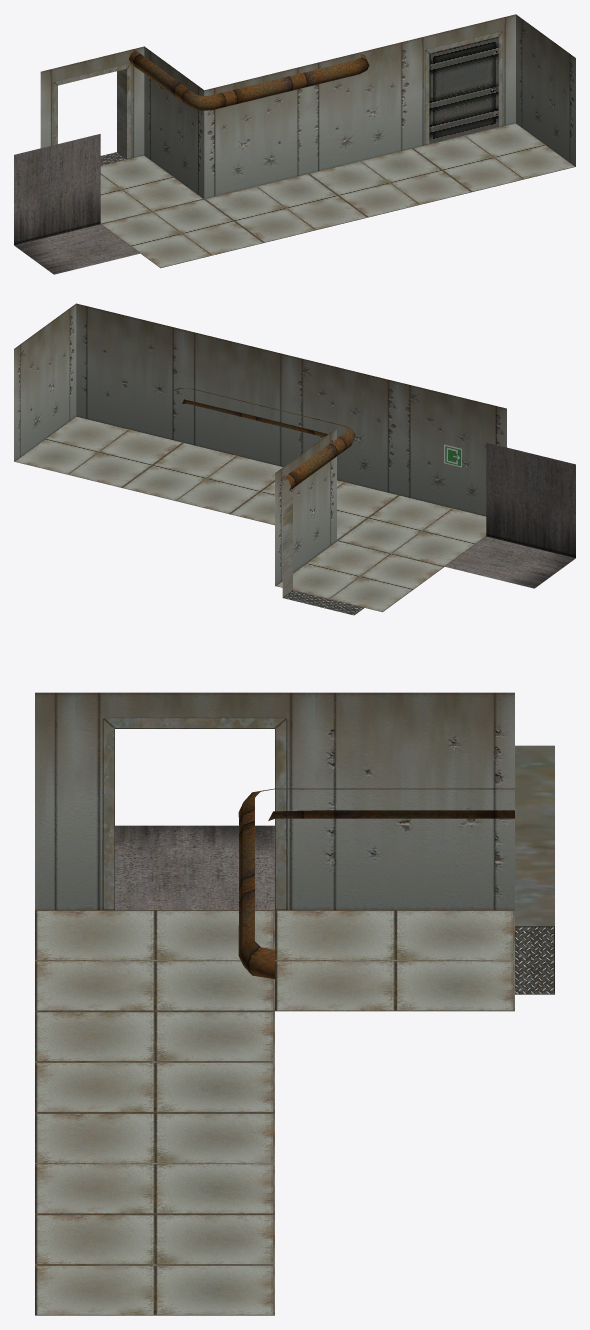
The model's file is ControlTowerInt01A.glb.
3 views of the same model, one above another, from view 1: azimuth 30°, elevation 25°; view 2: azimuth 150°, elevation 25°; view 3: azimuth 270°, elevation 25° (orthographic). The views are drawn at different scales.
Visible parts, largest first — view 1: CONTROLTOWERINT01A; view 2: CONTROLTOWERINT01A; view 3: CONTROLTOWERINT01A.
Boxes of the visible parts, box(x1,y1,x2,y2) form: CONTROLTOWERINT01A: box(14, 14, 575, 274); CONTROLTOWERINT01A: box(14, 303, 575, 615); CONTROLTOWERINT01A: box(35, 692, 554, 1315).
Size of the model in its own units: 14.5 by 3 by 6.5.
12 materials, 12 textured.
